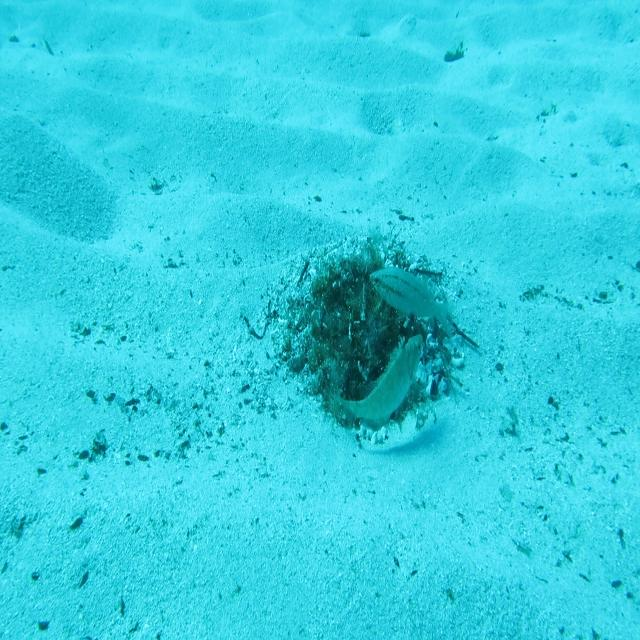BEND: (332, 332, 424, 436)
core_nest: (340, 282, 384, 334)
female: (367, 263, 454, 341)
nest: (255, 218, 465, 454)
vegetation: (441, 44, 466, 64)
